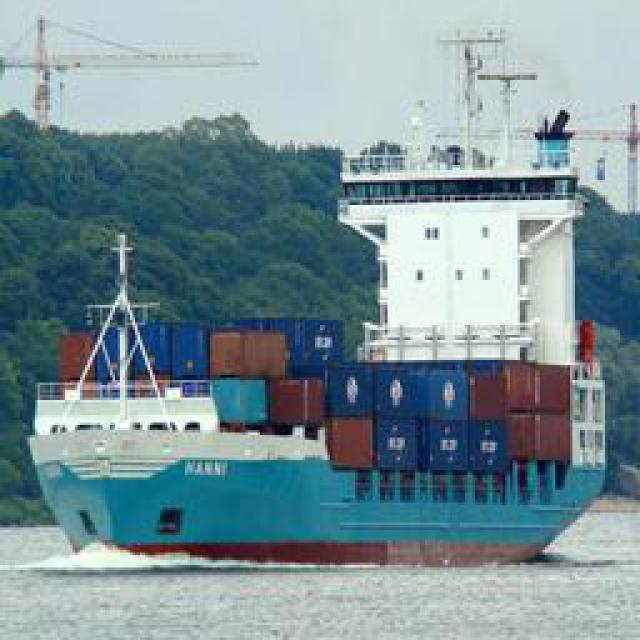Ship: (25, 179, 613, 572)
